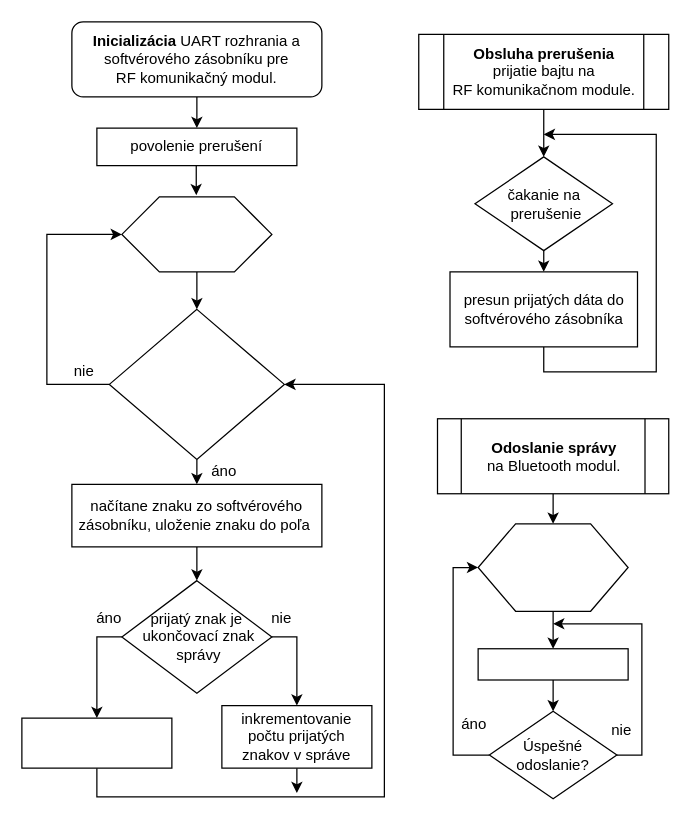
The diagram is 691 pixels wide and 829 high, and some of its shapes have lost their labels. The shapes that lost their labels are listed below. From the top down, each one's box as (x1, y1, x2, y2) in pixels, then its label:
(121, 196, 272, 272): nekonečná slučka
(108, 308, 284, 459): Sú dostupné nové dáta v softvérovom zásobníku?
(477, 522, 628, 611): Opakovanie počet znakov v správe
(477, 648, 628, 680): odoslanie znaku
(21, 717, 172, 768): odoslanie správy , nulovanie poľa
